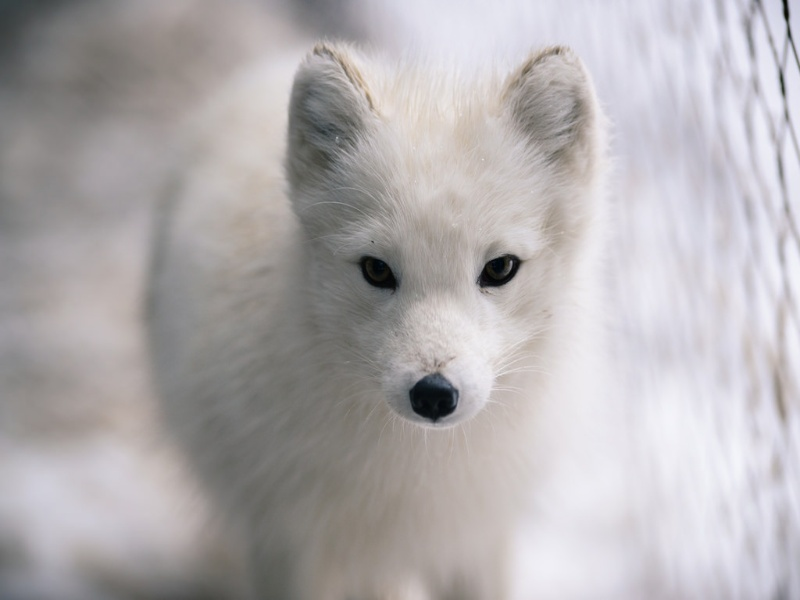fox: (142, 30, 614, 597)
